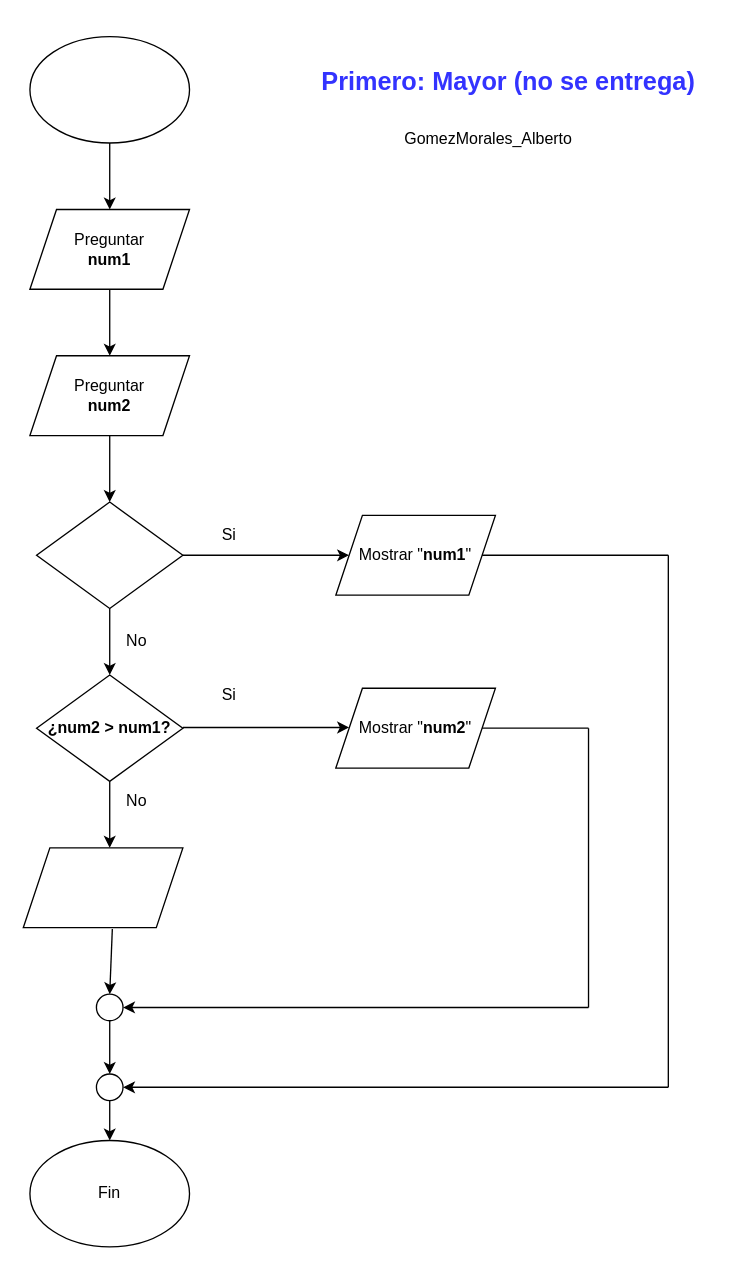
Some shapes in this 732 by 1270 pixel diagram are drawn without their labels. Each missing label, with the box of its shape:
Inicio: (29, 35, 190, 143)
Mostrar " Es el mismo número ": (22, 847, 183, 928)
¿num1 > num2?: (35, 501, 183, 608)
